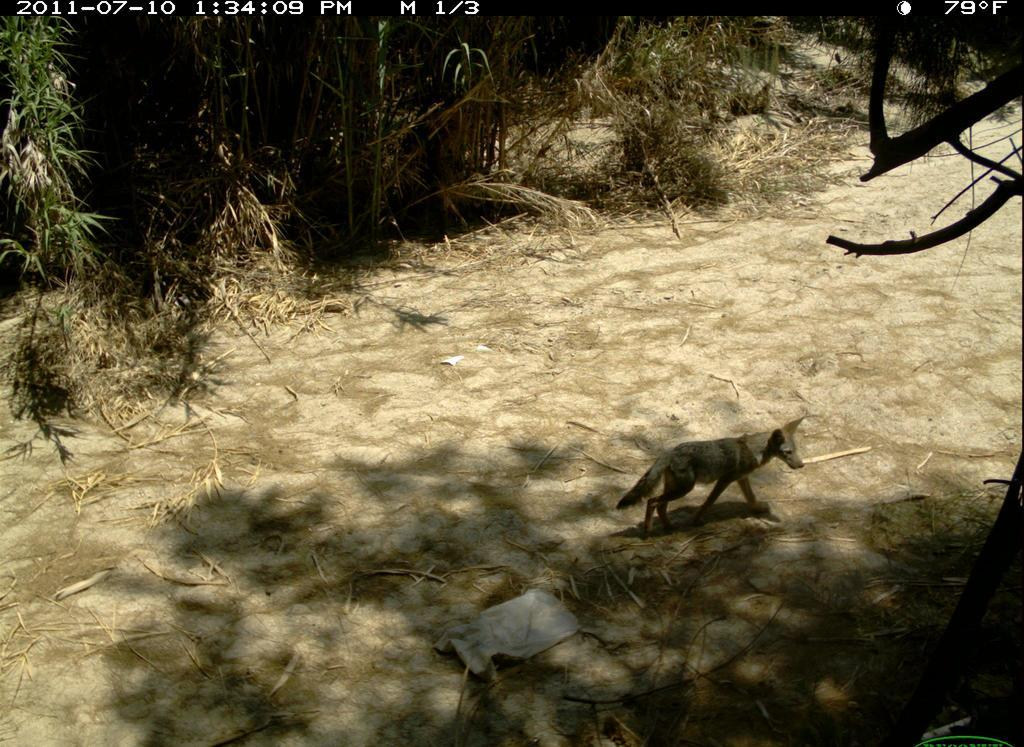coyote: (603, 409, 815, 546)
